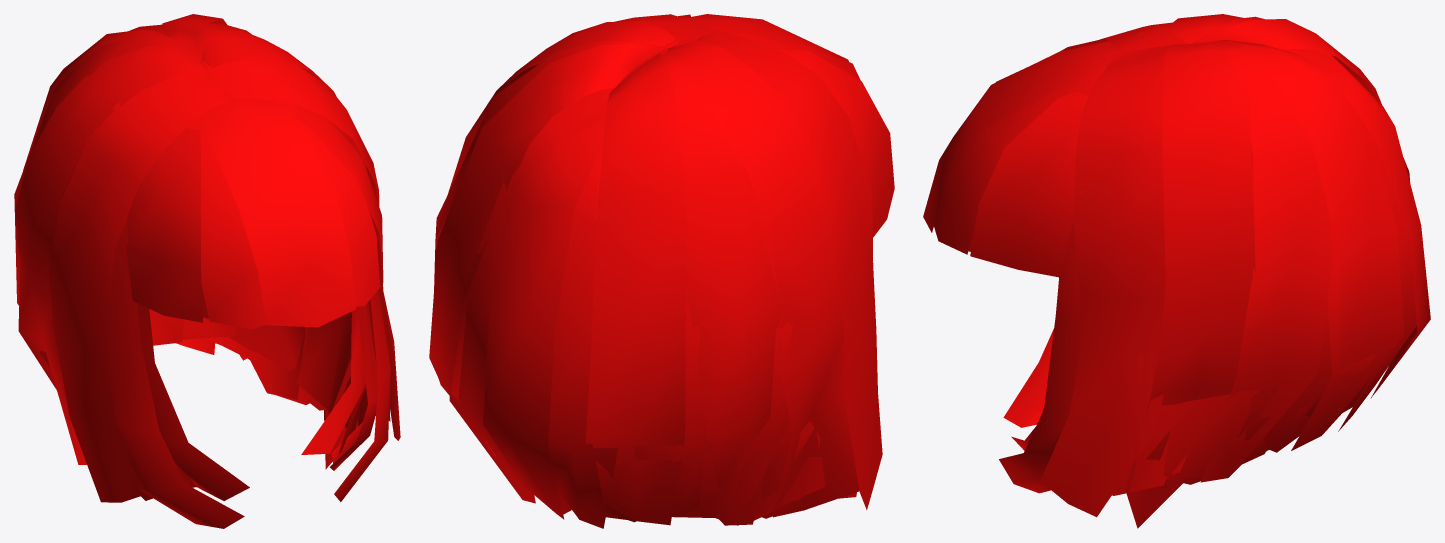
Rendered from elvs_witchy_lil_bob_F.glb.
3 views of the same model, side by side, from view 1: azimuth 30°, elevation 25°; view 2: azimuth 150°, elevation 25°; view 3: azimuth 270°, elevation 25° (orthographic). The views are drawn at different scales.
Size of the model in its own units: 0.2232 by 0.2927 by 0.3012.
Materials: 1 (1 with a texture image).
